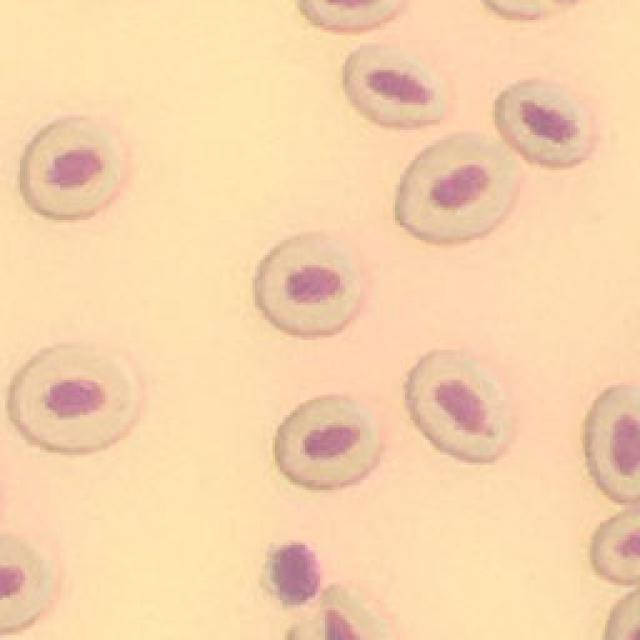RBC: (10, 345, 136, 451), (396, 135, 516, 241), (406, 351, 511, 461), (255, 234, 360, 335), (20, 116, 122, 219), (275, 398, 379, 488), (495, 80, 598, 166), (344, 45, 445, 126), (585, 386, 640, 501), (288, 586, 392, 640), (0, 535, 54, 631), (592, 506, 640, 584), (300, 1, 401, 29)
WBC: (274, 542, 320, 603)
